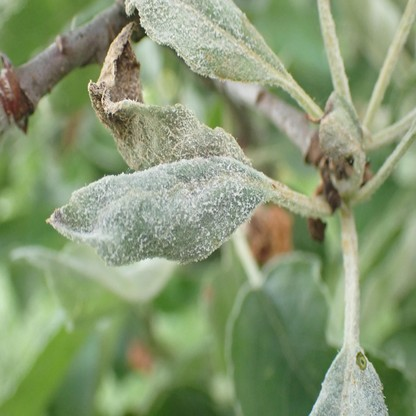powder: (87, 21, 256, 173), (46, 159, 266, 267), (124, 0, 288, 82), (308, 349, 390, 416), (320, 92, 363, 158)
